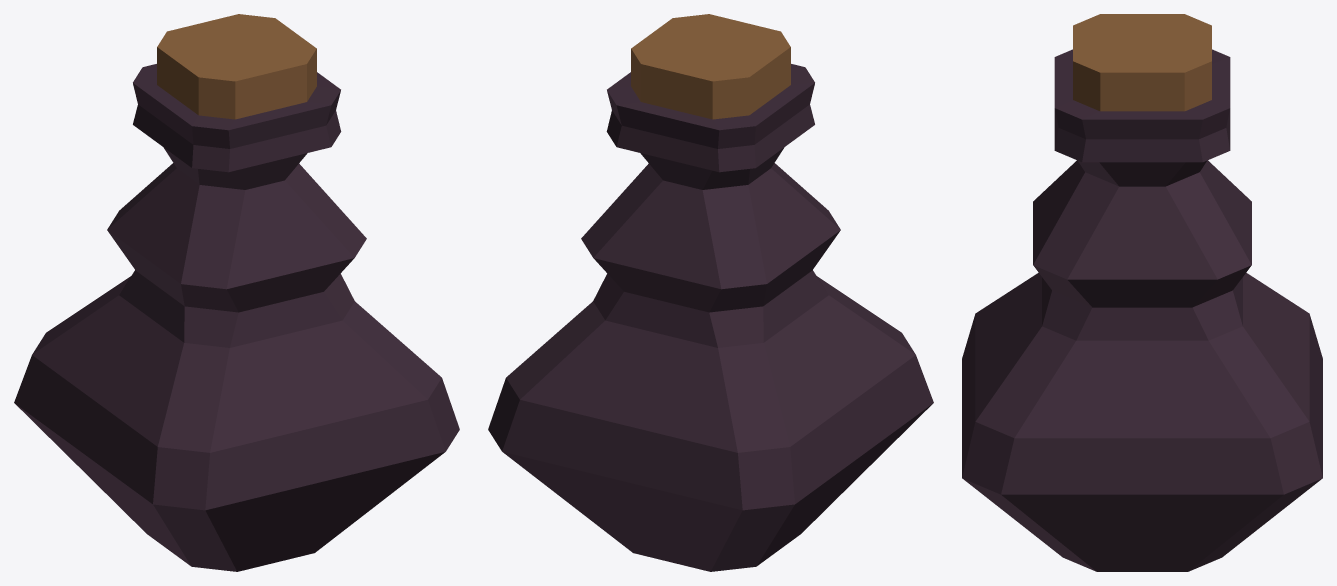
Rendered from Prop Bottle.glb.
The picture shows the model from 3 angles, left to right: view 1: azimuth 30°, elevation 25°; view 2: azimuth 150°, elevation 25°; view 3: azimuth 270°, elevation 25°; orthographic projection.
Visible parts, largest first — view 1: Prop_Bottle_2; view 2: Prop_Bottle_2; view 3: Prop_Bottle_2.
Part boxes in pixels (bbox=[...]): Prop_Bottle_2: bbox=[14, 14, 459, 571]; Prop_Bottle_2: bbox=[488, 14, 933, 571]; Prop_Bottle_2: bbox=[962, 14, 1322, 571].
Size of the model in its own units: 0.3079 by 0.4659 by 0.3079.
1 material, 1 textured.
